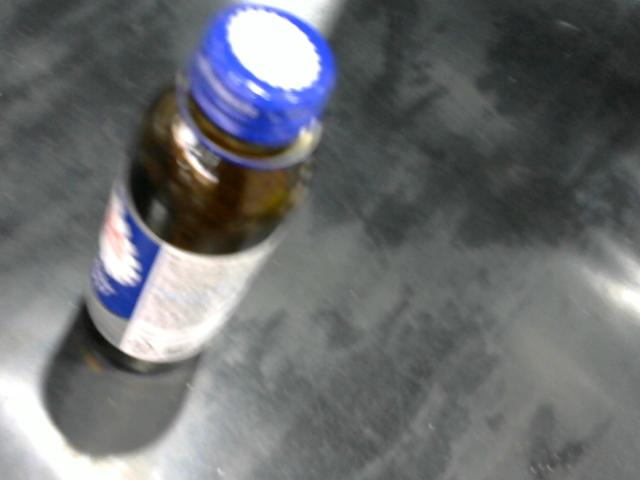glass: (69, 5, 351, 386)
